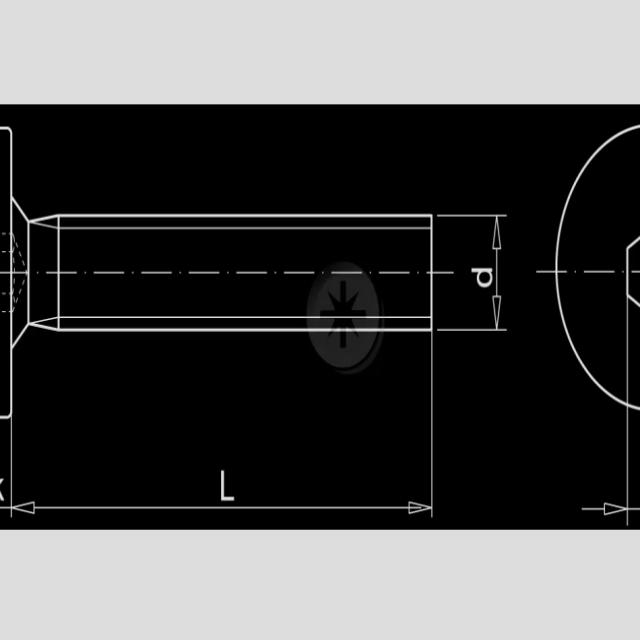marking_line: (26, 336, 441, 520), (0, 420, 437, 525), (436, 211, 508, 335), (579, 412, 640, 524)
